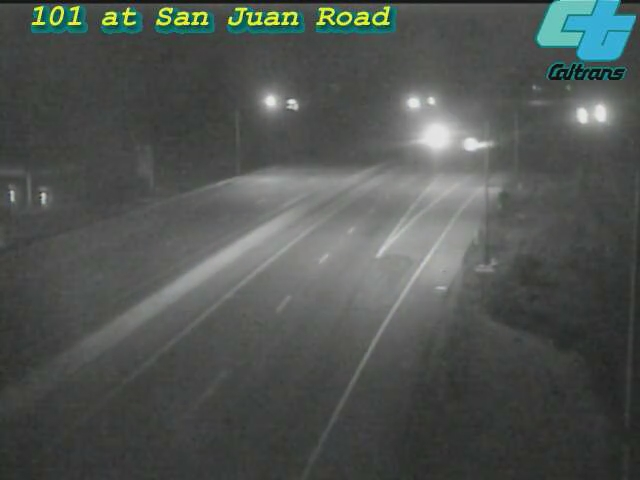vehicle: (407, 110, 457, 160), (444, 119, 494, 169), (558, 89, 608, 139), (572, 89, 622, 139)
